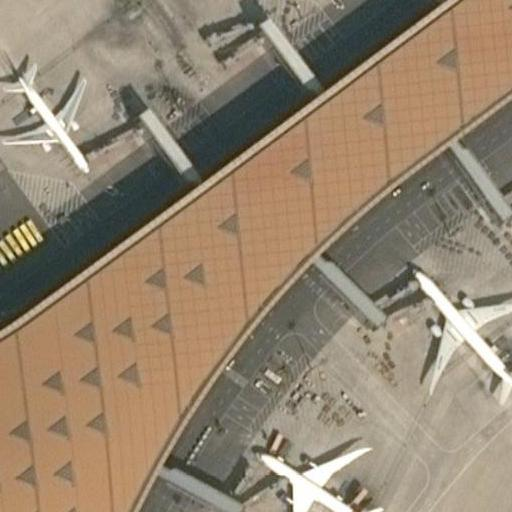Aircraft: (402, 256, 512, 416), (247, 426, 390, 512), (0, 56, 92, 163)
